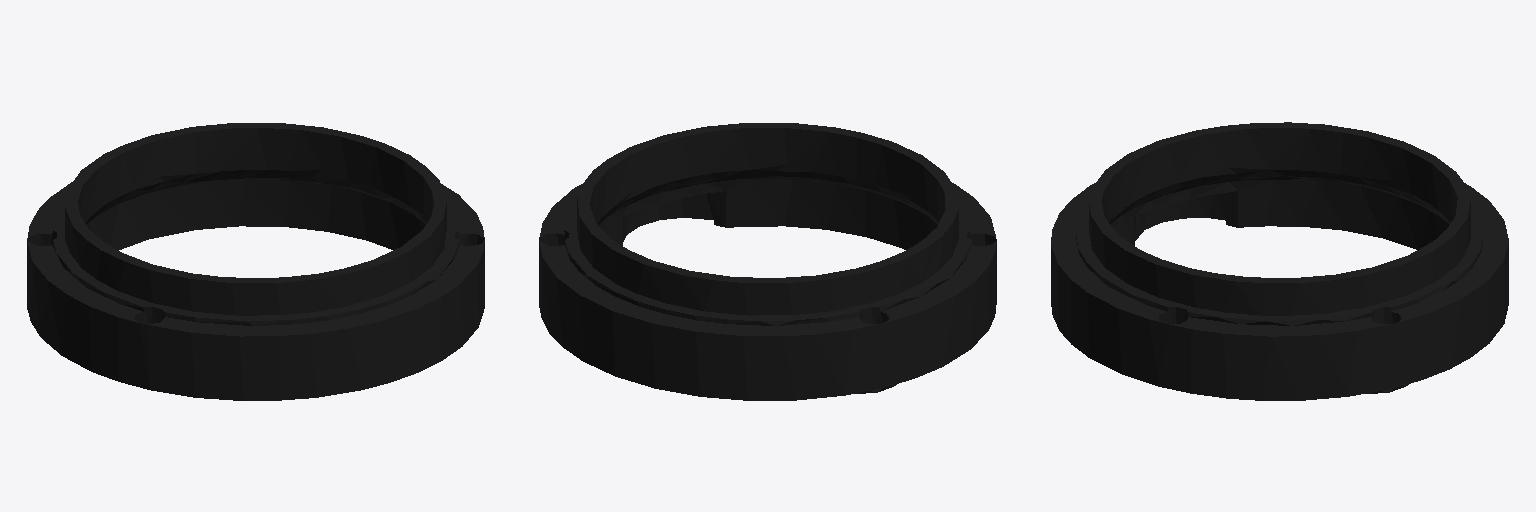
The model's file is right_arm_2_0.obj.
The picture shows the model from 3 angles: view 1: azimuth 30°, elevation 25°; view 2: azimuth 150°, elevation 25°; view 3: azimuth 270°, elevation 25°; orthographic projection.
Size of the model in its own units: 0.0901 by 0.023 by 0.0901.